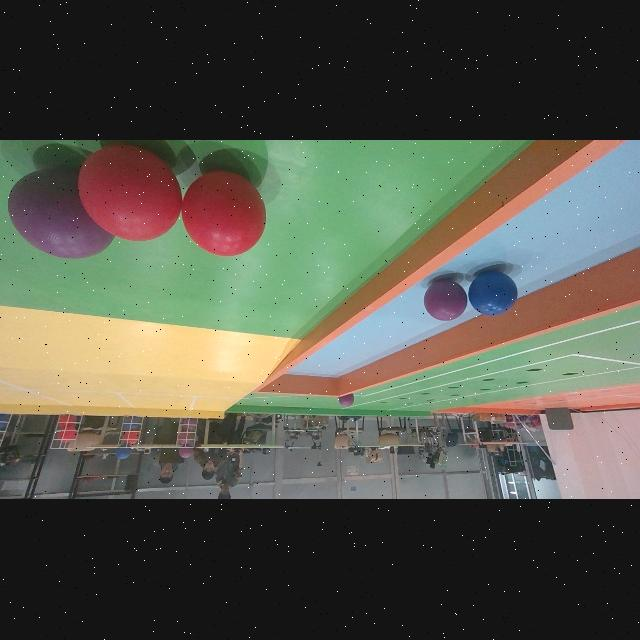B: (468, 272, 518, 316)
P: (7, 168, 88, 262), (424, 280, 468, 322)
R: (78, 144, 182, 242), (182, 171, 266, 257)
